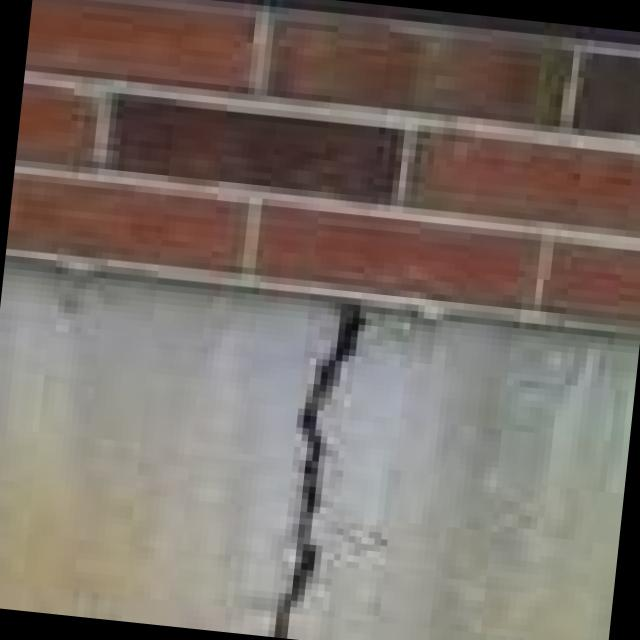crack: (250, 291, 374, 637)
